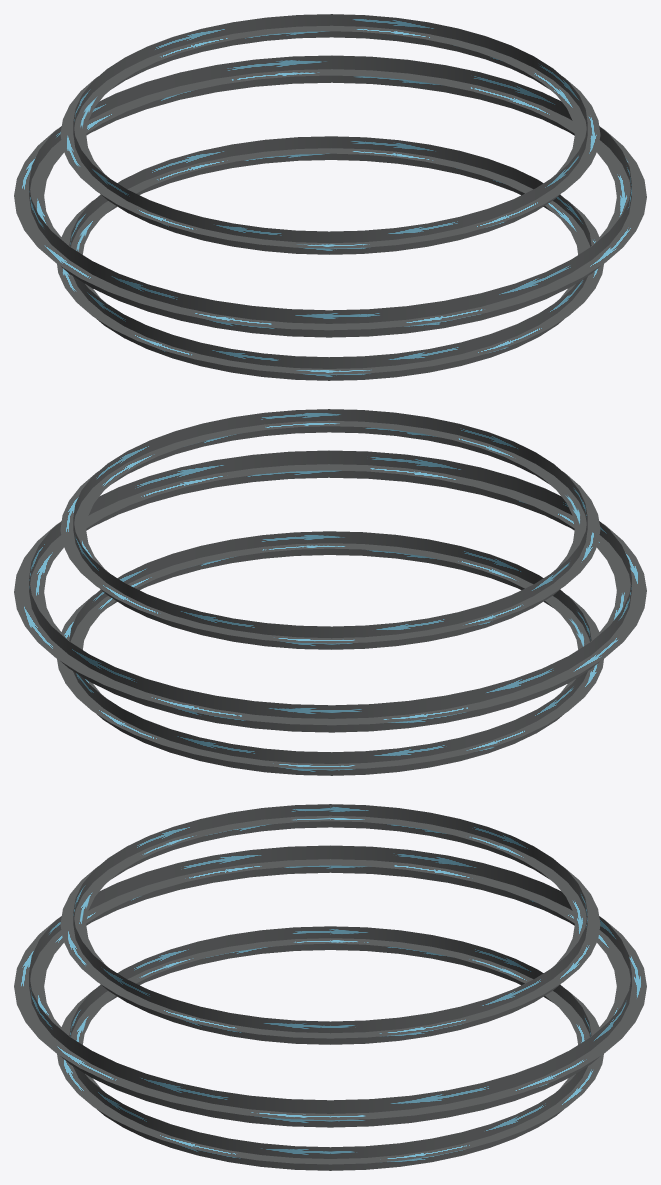
File: spin_mesh.glb
The picture shows the model from 3 angles, top to bottom: view 1: azimuth 30°, elevation 25°; view 2: azimuth 150°, elevation 25°; view 3: azimuth 270°, elevation 25°; orthographic projection.
Visible parts, largest first — view 1: SpinMesh; view 2: SpinMesh; view 3: SpinMesh.
Part boxes in pixels (left/top/right/bottom): SpinMesh: left=14, top=14, right=646, bottom=380; SpinMesh: left=14, top=409, right=646, bottom=775; SpinMesh: left=14, top=804, right=646, bottom=1170.
Size of the model in its own units: 1.85 by 0.4757 by 1.85.
Materials: 1 (1 with a texture image).
